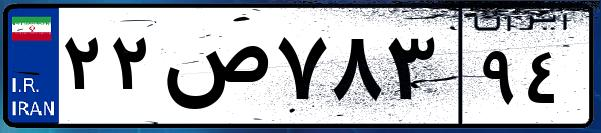2: (57, 26, 110, 100), (110, 28, 158, 98)
3: (385, 28, 445, 110)
4: (525, 38, 570, 115)
7: (270, 28, 330, 110)
8: (330, 28, 385, 110)
9: (475, 38, 525, 113)
ص: (158, 20, 270, 120)
